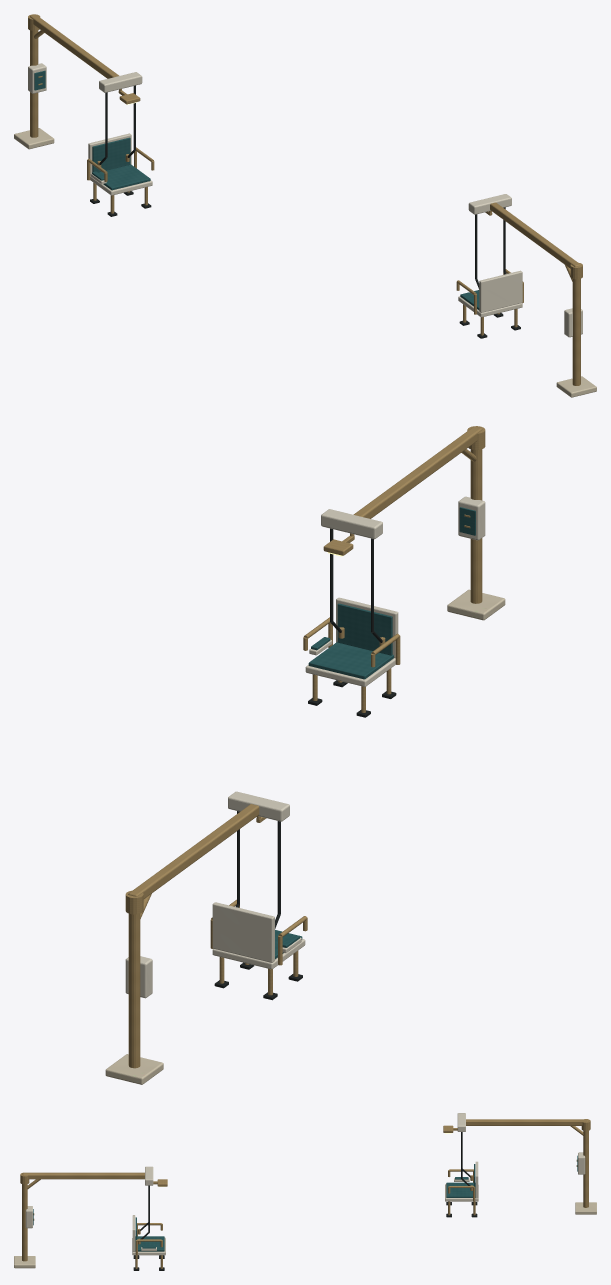
The model's file is Group6ThermalSupport_03_r004.glb.
3 renders of one model, top to bottom at view 1: azimuth 30°, elevation 25°; view 2: azimuth 150°, elevation 25°; view 3: azimuth 270°, elevation 25°, orthographic. The views are drawn at different scales.
Parts seen in each view (by area): view 1: G6_SUPPORT_03__station_1_seat_back_load, G6_SUPPORT_03__station_1_parked_lift_arm, G6_SUPPORT_03__station_0_parked_lift_arm, G6_SUPPORT_03__station_0_seat_back_pad, G6_SUPPORT_03__station_1_mast_load_column, G6_SUPPORT_03__station_0_seat_pad, G6_SUPPORT_03__station_0_mast_load_column, G6_SUPPORT_03__station_0_parked_head, G6_SUPPORT_03__station_0_mast_floor_anchor, G6_SUPPORT_03__station_1_parked_head, G6_SUPPORT_03__station_1_mast_floor_anchor; view 2: G6_SUPPORT_03__station_0_seat_back_load, G6_SUPPORT_03__station_0_parked_lift_arm, G6_SUPPORT_03__station_1_parked_lift_arm, G6_SUPPORT_03__station_0_mast_load_column, G6_SUPPORT_03__station_1_seat_back_pad, G6_SUPPORT_03__station_1_seat_pad, G6_SUPPORT_03__station_1_mast_load_column, G6_SUPPORT_03__station_1_parked_head, G6_SUPPORT_03__station_1_mast_floor_anchor, G6_SUPPORT_03__station_0_mast_floor_anchor, G6_SUPPORT_03__station_0_parked_head; view 3: G6_SUPPORT_03__station_1_parked_lift_arm, G6_SUPPORT_03__station_0_parked_lift_arm, G6_SUPPORT_03__station_1_mast_load_column, G6_SUPPORT_03__station_0_mast_load_column, G6_SUPPORT_03__station_0_seat_pad, G6_SUPPORT_03__station_1_seat_pad, G6_SUPPORT_03__station_0_mast_floor_anchor, G6_SUPPORT_03__station_1_mast_floor_anchor.
Boxes of the visible parts, x1,y1,x2,y2 form: G6_SUPPORT_03__station_1_seat_back_load: [479, 270, 522, 312]; G6_SUPPORT_03__station_1_parked_lift_arm: [490, 202, 580, 268]; G6_SUPPORT_03__station_0_parked_lift_arm: [30, 14, 119, 78]; G6_SUPPORT_03__station_0_seat_back_pad: [92, 137, 130, 172]; G6_SUPPORT_03__station_1_mast_load_column: [572, 278, 580, 385]; G6_SUPPORT_03__station_0_seat_pad: [98, 164, 150, 190]; G6_SUPPORT_03__station_0_mast_load_column: [30, 30, 38, 137]; G6_SUPPORT_03__station_0_parked_head: [99, 72, 142, 92]; G6_SUPPORT_03__station_0_mast_floor_anchor: [14, 128, 54, 149]; G6_SUPPORT_03__station_1_parked_head: [468, 194, 511, 214]; G6_SUPPORT_03__station_1_mast_floor_anchor: [556, 376, 596, 397]; G6_SUPPORT_03__station_0_seat_back_load: [212, 902, 274, 962]; G6_SUPPORT_03__station_0_parked_lift_arm: [128, 804, 259, 898]; G6_SUPPORT_03__station_1_parked_lift_arm: [353, 426, 482, 518]; G6_SUPPORT_03__station_0_mast_load_column: [128, 913, 140, 1068]; G6_SUPPORT_03__station_1_seat_back_pad: [337, 603, 392, 655]; G6_SUPPORT_03__station_1_seat_pad: [308, 642, 393, 679]; G6_SUPPORT_03__station_1_mast_load_column: [470, 449, 482, 603]; G6_SUPPORT_03__station_1_parked_head: [321, 509, 382, 539]; G6_SUPPORT_03__station_1_mast_floor_anchor: [447, 589, 505, 620]; G6_SUPPORT_03__station_0_mast_floor_anchor: [105, 1054, 163, 1084]; G6_SUPPORT_03__station_0_parked_head: [228, 791, 289, 821]; G6_SUPPORT_03__station_1_parked_lift_arm: [22, 1172, 144, 1179]; G6_SUPPORT_03__station_0_parked_lift_arm: [466, 1119, 588, 1125]; G6_SUPPORT_03__station_1_mast_load_column: [22, 1184, 27, 1261]; G6_SUPPORT_03__station_0_mast_load_column: [583, 1130, 588, 1207]; G6_SUPPORT_03__station_0_seat_pad: [446, 1182, 475, 1197]; G6_SUPPORT_03__station_1_seat_pad: [135, 1236, 164, 1251]; G6_SUPPORT_03__station_0_mast_floor_anchor: [575, 1202, 596, 1214]; G6_SUPPORT_03__station_1_mast_floor_anchor: [14, 1256, 35, 1268].
Bounding box in the file's own units: 3.71 × 2.22 × 12.88.
Materials: 6 (5 with a texture image).
